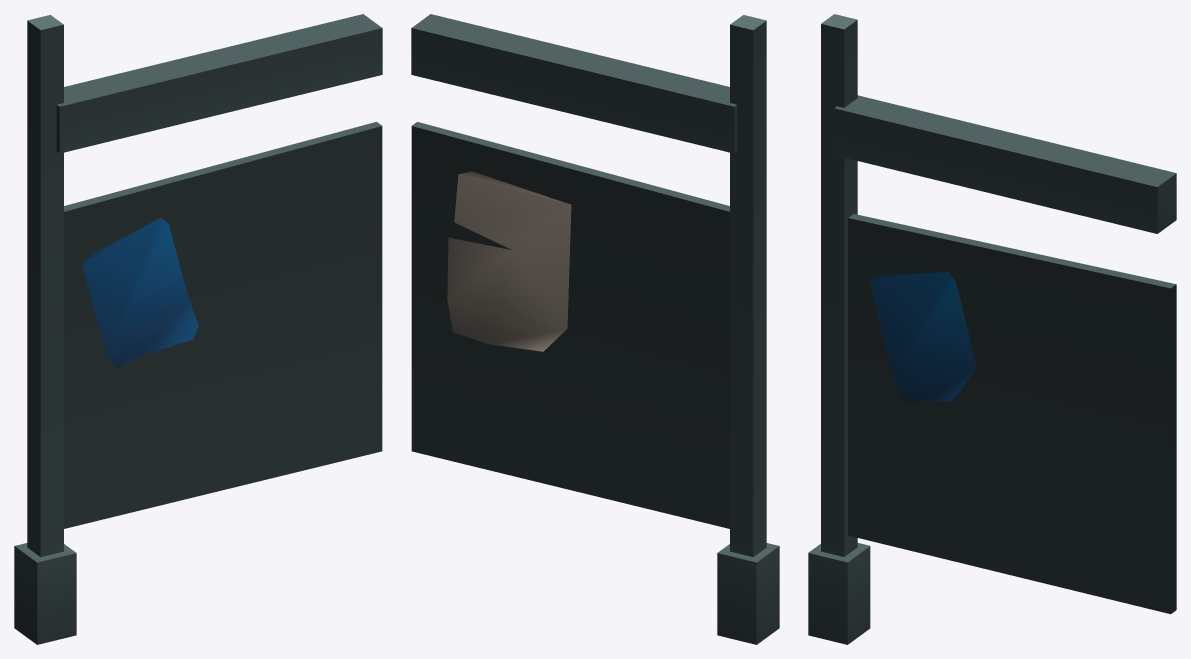
File: Metal_Fence_2B.fbx
The picture shows the model from 3 angles, left to right: view 1: azimuth 30°, elevation 25°; view 2: azimuth 150°, elevation 25°; view 3: azimuth 330°, elevation 25°; orthographic projection.
Visible parts, largest first — view 1: Metal_Fence_2B; view 2: Metal_Fence_2B; view 3: Metal_Fence_2B.
Boxes of the visible parts, <box> form: Metal_Fence_2B: <box>14,14,382,644</box>; Metal_Fence_2B: <box>411,14,779,644</box>; Metal_Fence_2B: <box>808,14,1176,644</box>.
Bounding box in the file's own units: 213 × 350 × 31.42.
